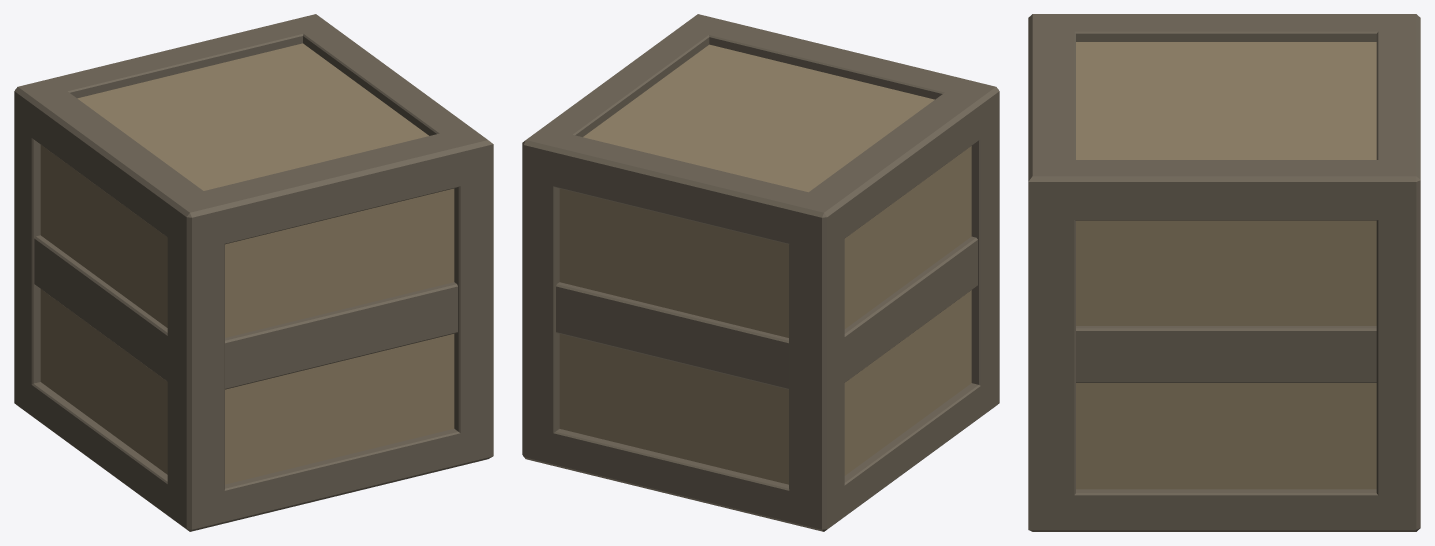
The model's file is crate4.fbx.
The picture shows the model from 3 angles, left to right: view 1: azimuth 30°, elevation 25°; view 2: azimuth 150°, elevation 25°; view 3: azimuth 270°, elevation 25°; orthographic projection. The views are drawn at different scales.
Visible parts, largest first — view 1: crate2; view 2: crate2; view 3: crate2.
Part boxes in pixels (x1,y1,x2,y2): crate2: (14,14,493,531); crate2: (522,14,999,531); crate2: (1028,14,1420,531).
Size of the model in its own units: 72.87 by 72.87 by 72.87.
